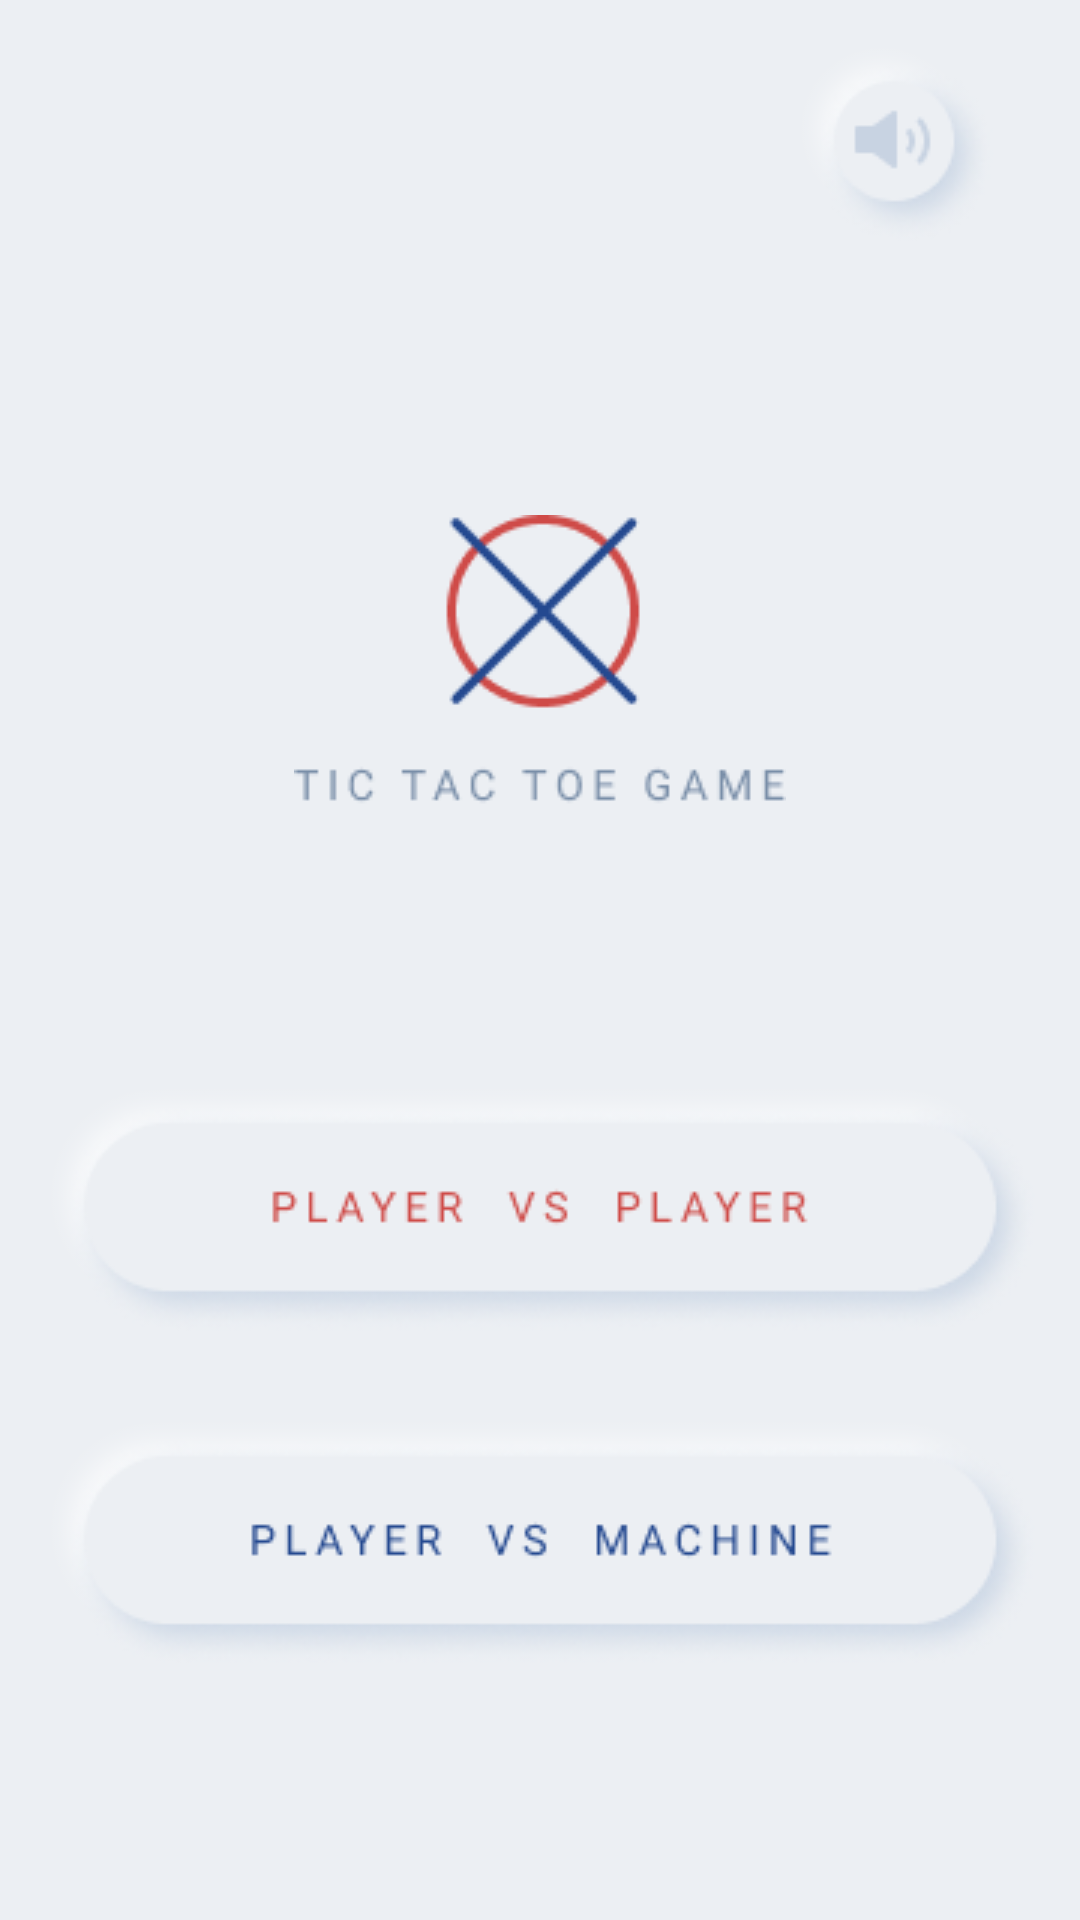

Icons on this 1080*1920 Android screen, each with its box as [x1=x1, y1=y1, x2=x2, y2=y2]:
sound on states: [x1=856, y1=112, x2=957, y2=203]
